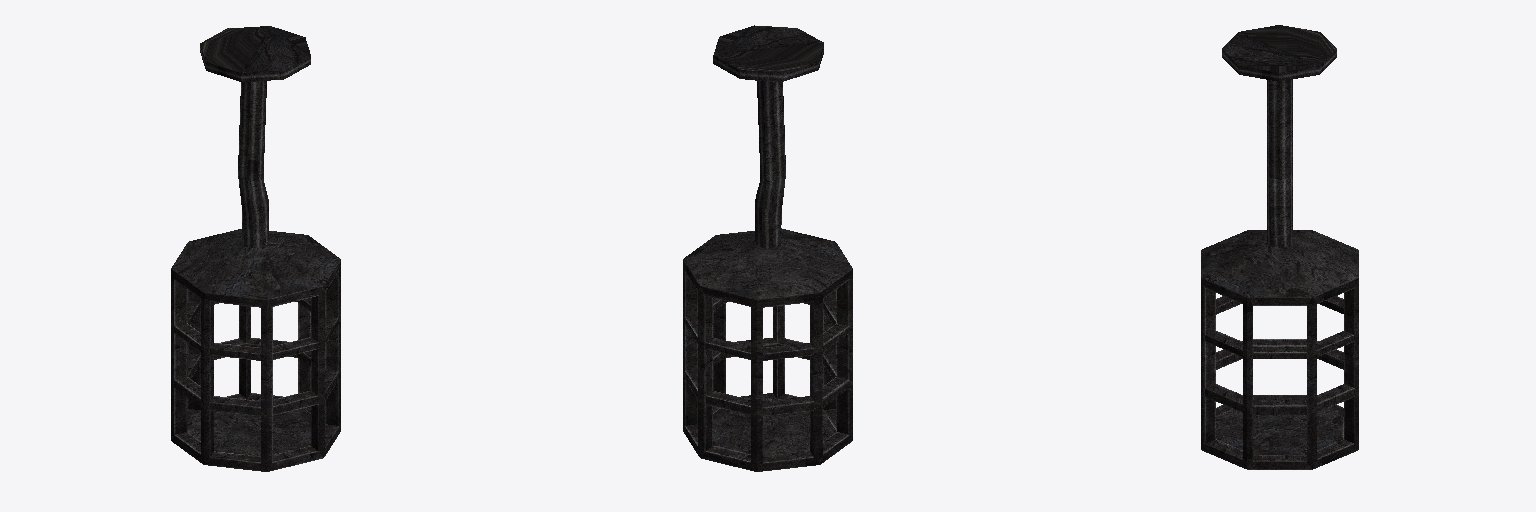
The picture shows the model from 3 angles: view 1: azimuth 30°, elevation 25°; view 2: azimuth 150°, elevation 25°; view 3: azimuth 270°, elevation 25°; orthographic projection.
Visible parts, largest first — view 1: Default_Layer; view 2: Default_Layer; view 3: Default_Layer.
Boxes of the visible parts, x1,y1,x2,y2 form: Default_Layer: [171, 26, 340, 471]; Default_Layer: [683, 25, 852, 471]; Default_Layer: [1201, 25, 1358, 469].
Bounding box in the file's own units: 0.4621 × 1.33 × 0.4621.
1 materials, 1 textured.